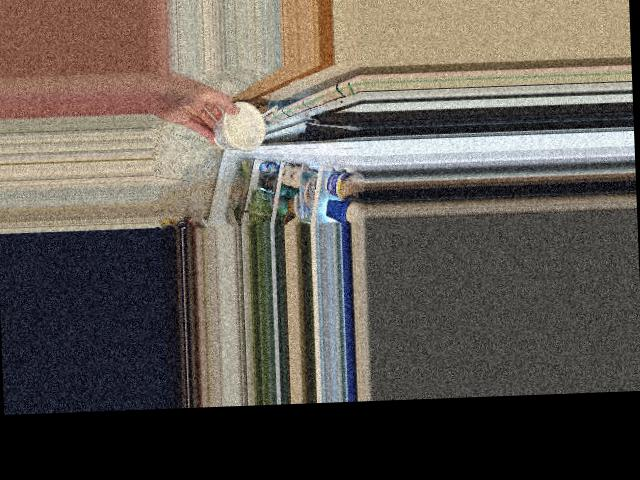cotage: (212, 104, 271, 149)
